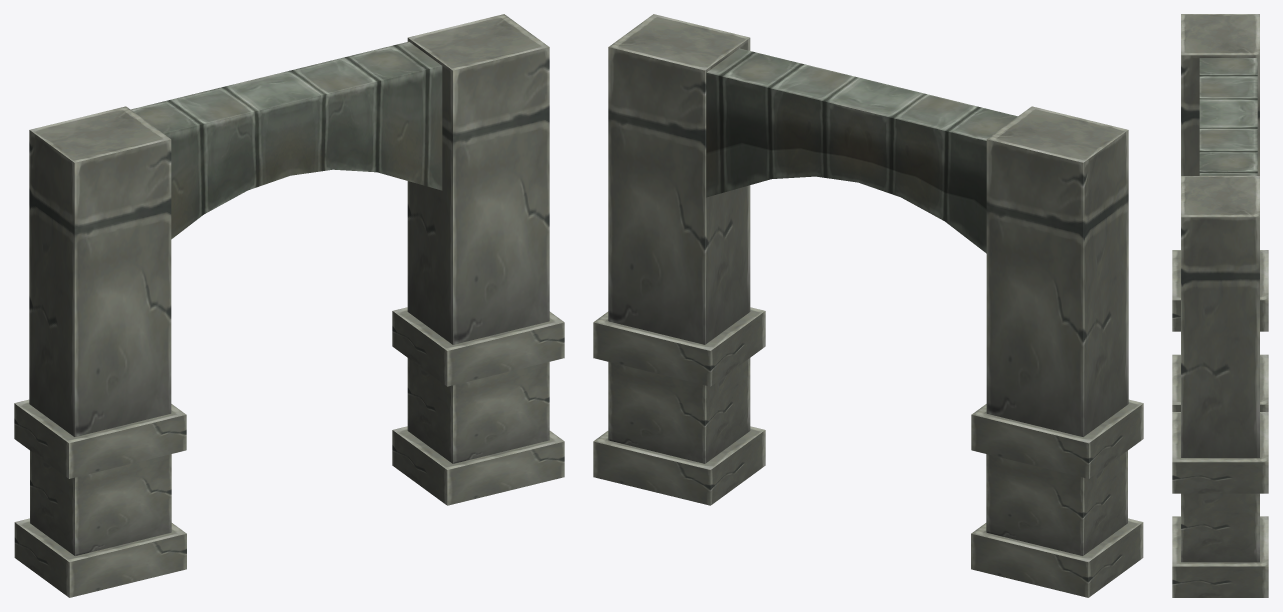
The model's file is bridge_03a_downside_02.fbx.
3 renders of one model, left to right at view 1: azimuth 30°, elevation 25°; view 2: azimuth 150°, elevation 25°; view 3: azimuth 270°, elevation 25°, orthographic. The views are drawn at different scales.
Parts seen in each view (by area): view 1: bridge_03a_downside_02; view 2: bridge_03a_downside_02; view 3: bridge_03a_downside_02.
Part boxes in pixels (left/top/right/bottom): bridge_03a_downside_02: left=14, top=14, right=564, bottom=597; bridge_03a_downside_02: left=593, top=14, right=1143, bottom=597; bridge_03a_downside_02: left=1172, top=14, right=1268, bottom=597.
Bounding box in the file's own units: 2.69 × 2.22 × 0.5157.
